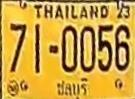0: (61, 25, 77, 71), (79, 25, 95, 71)
1: (34, 23, 40, 73)
5: (97, 24, 113, 71)
6: (114, 24, 129, 70)
7: (9, 23, 26, 70)
CBI: (53, 76, 89, 99)
